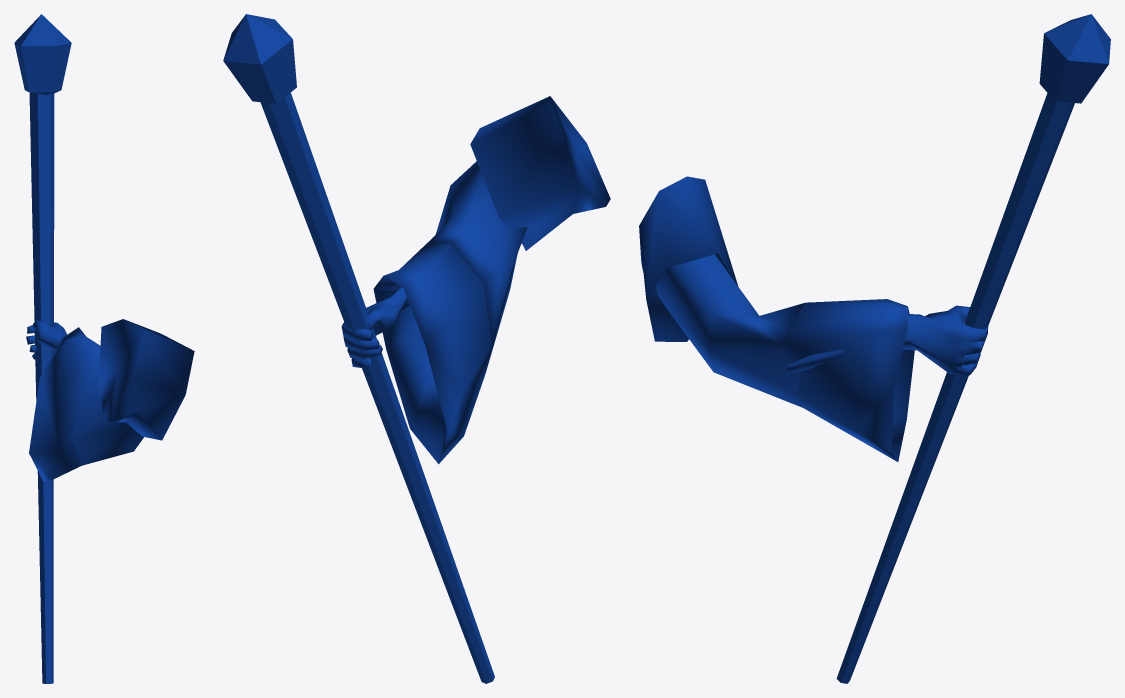
The model's file is arm_000054.obj.
3 views of the same model, side by side, from view 1: azimuth 30°, elevation 25°; view 2: azimuth 150°, elevation 25°; view 3: azimuth 270°, elevation 25° (orthographic). The views are drawn at different scales.
Visible parts, largest first — view 1: Wizard.002_Plane.002; view 2: Wizard.002_Plane.002; view 3: Wizard.002_Plane.002.
Part boxes in pixels (box(x1,y1,x2,y2)): Wizard.002_Plane.002: box(14, 14, 194, 683); Wizard.002_Plane.002: box(223, 14, 610, 683); Wizard.002_Plane.002: box(639, 14, 1110, 683).
Size of the model in its own units: 0.3966 by 1.66 by 0.9822.
